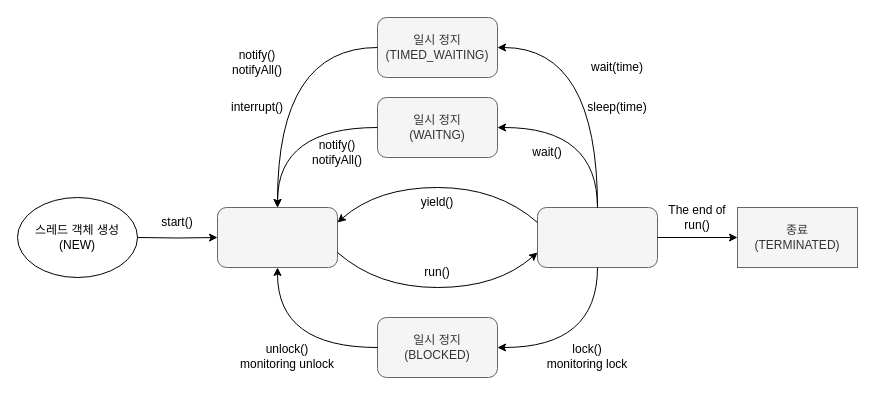
The diagram is 875 pixels wide and 395 high, and some of its shapes have lost their labels. The shapes that lost their labels are listed below. From the top down, each one's centre as x and y in pixels, then its label:
At (277,237): "실행 대기 (RUNNABLE)".
At (597,237): "실행 (RUNNING)".
